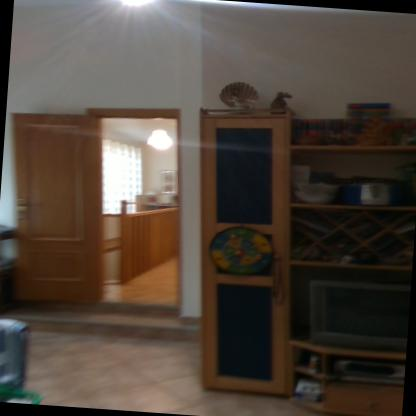open: (0, 86, 208, 373)
